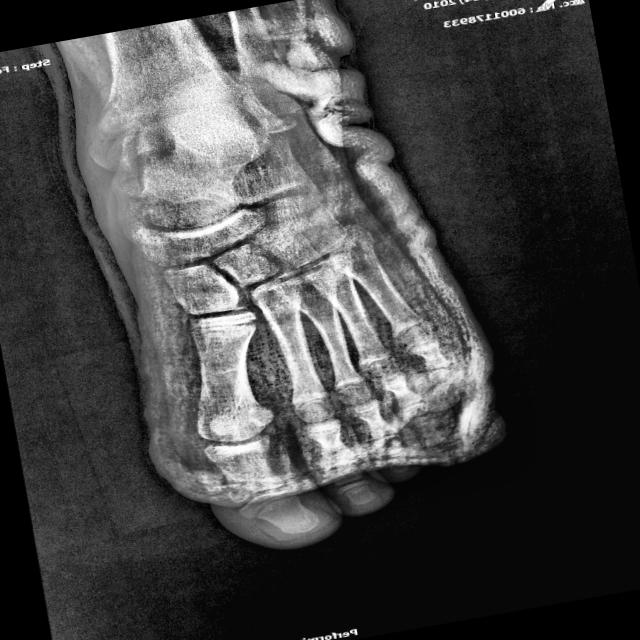Fracture: (188, 316, 253, 342)
